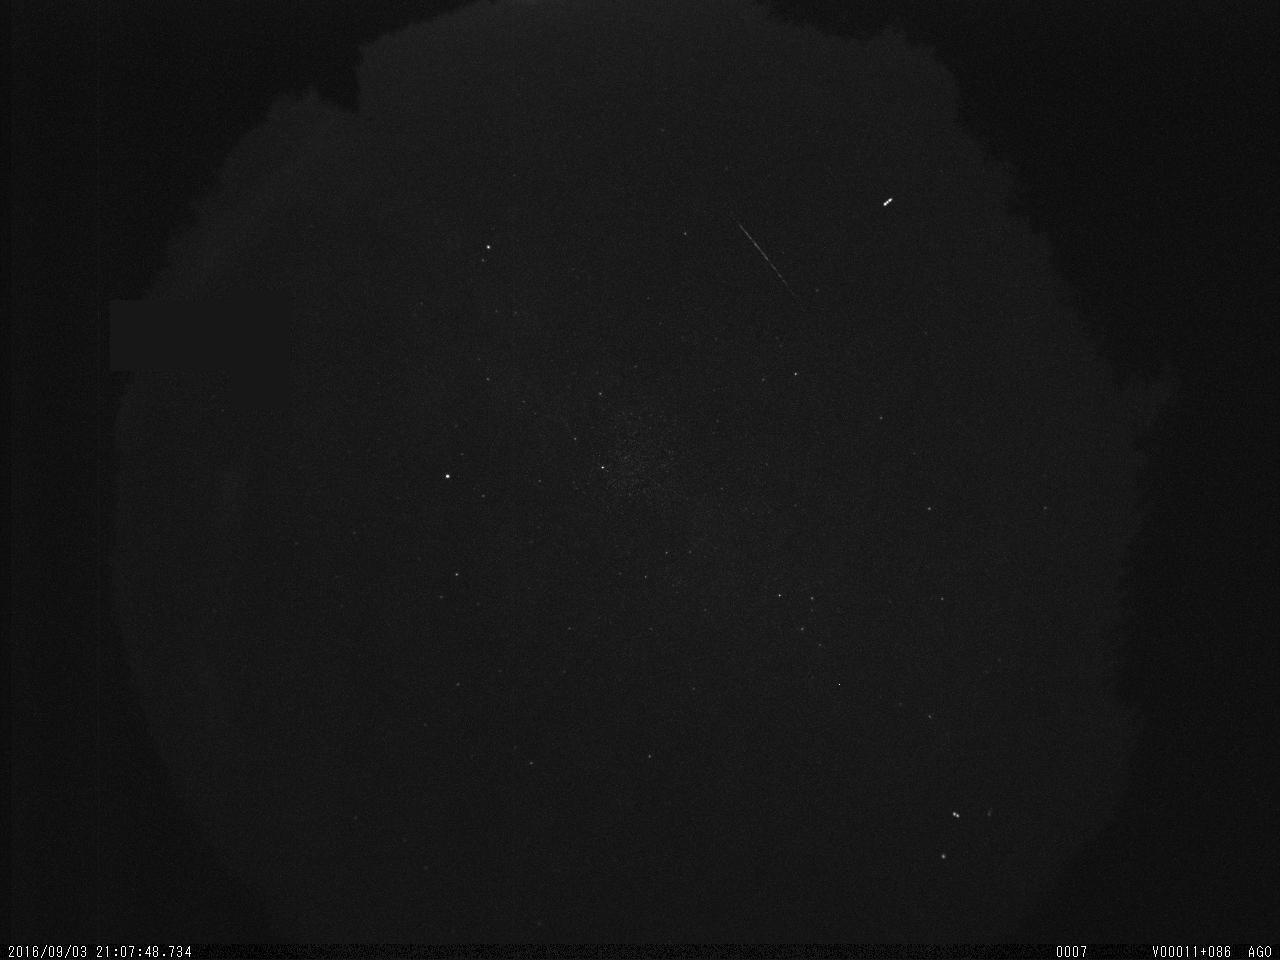meteor: (707, 203, 848, 349)
